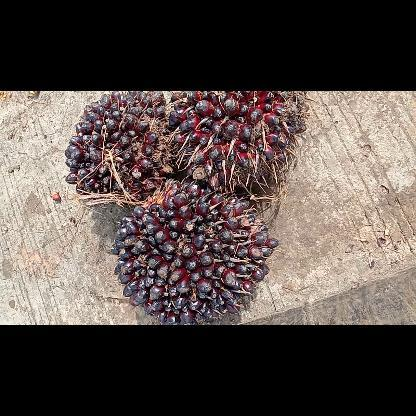TBS mentah: (108, 178, 282, 324), (163, 91, 311, 189), (62, 92, 176, 204)
